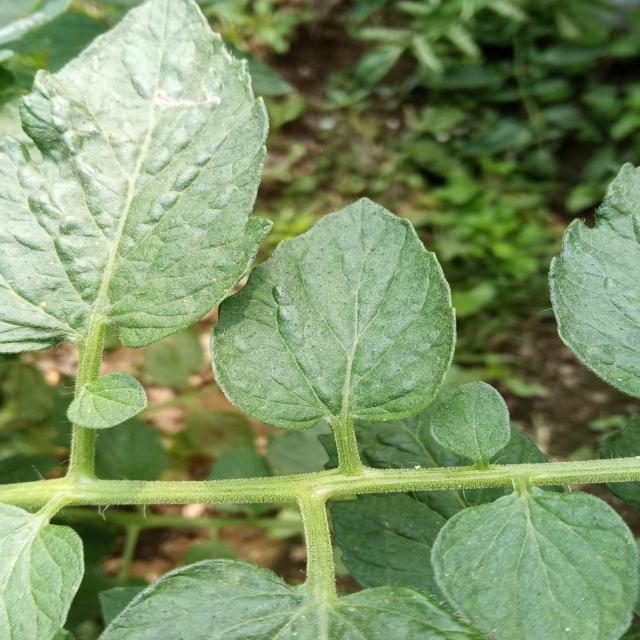Healthy: (173, 178, 500, 494), (433, 482, 638, 640), (549, 164, 639, 397)
